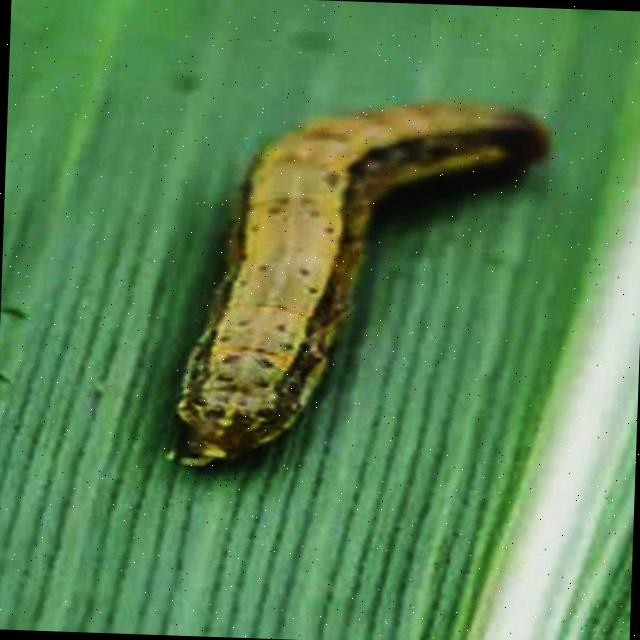worm: (166, 90, 555, 481)
